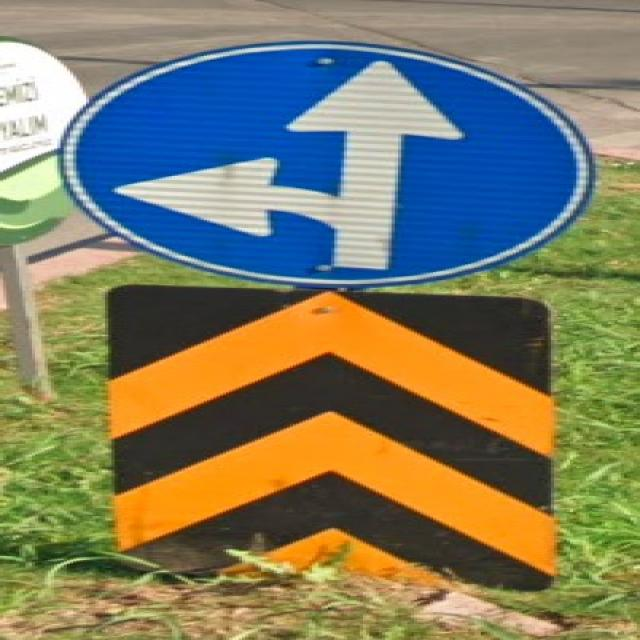Straight or Left: (55, 43, 597, 284)
